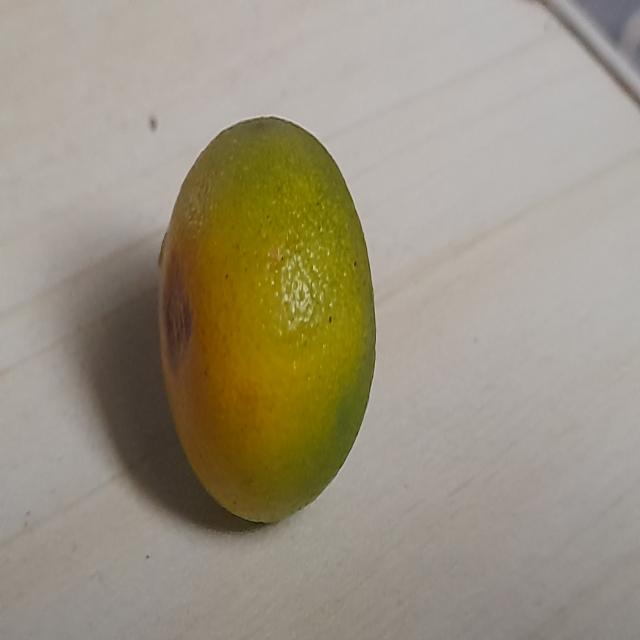greening: (156, 113, 377, 542)
